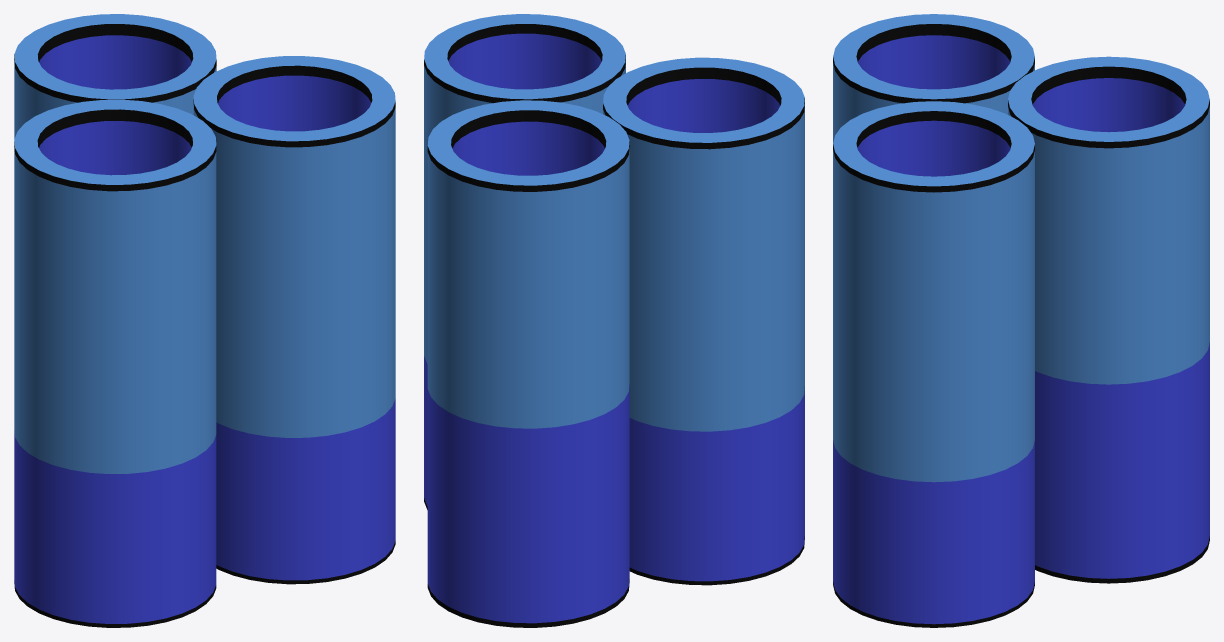
The model's file is PM_PlasticCase.fbx.
3 views of the same model, side by side, from view 1: azimuth 30°, elevation 25°; view 2: azimuth 150°, elevation 25°; view 3: azimuth 270°, elevation 25° (orthographic).
Visible parts, largest first — view 1: PlasticCase; view 2: PlasticCase; view 3: PlasticCase.
Part boxes in pixels (x1,y1,x2,y2): PlasticCase: [14, 14, 395, 627]; PlasticCase: [424, 14, 804, 627]; PlasticCase: [833, 14, 1209, 627].
Size of the model in its own units: 0.6203 by 0.5726 by 0.7405.
